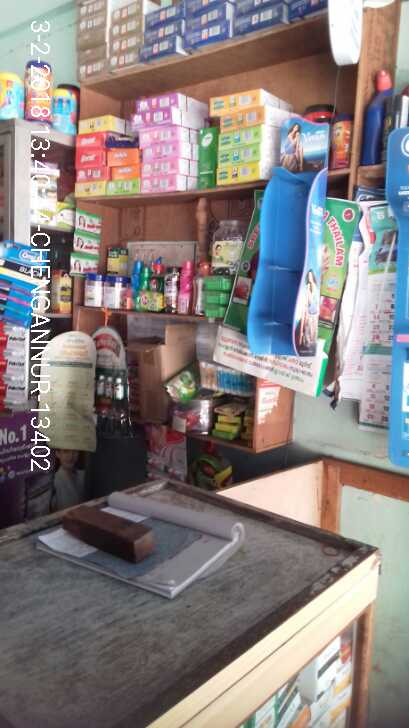reject: (132, 236, 200, 289)
